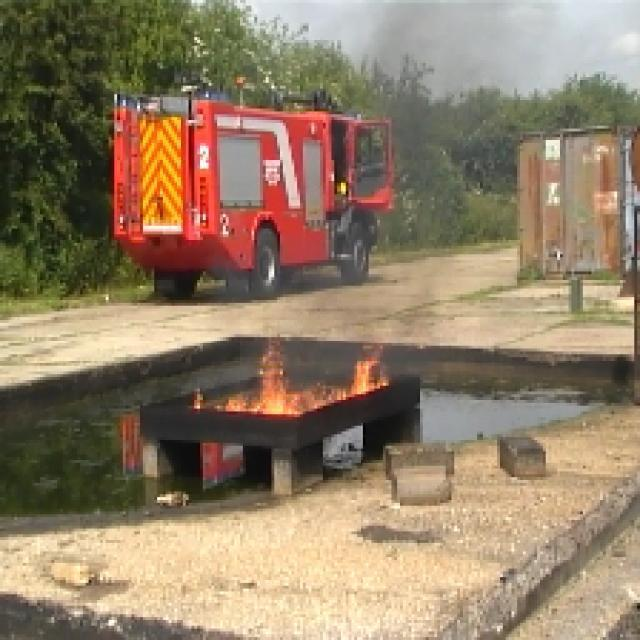Fire: (158, 300, 478, 482)
